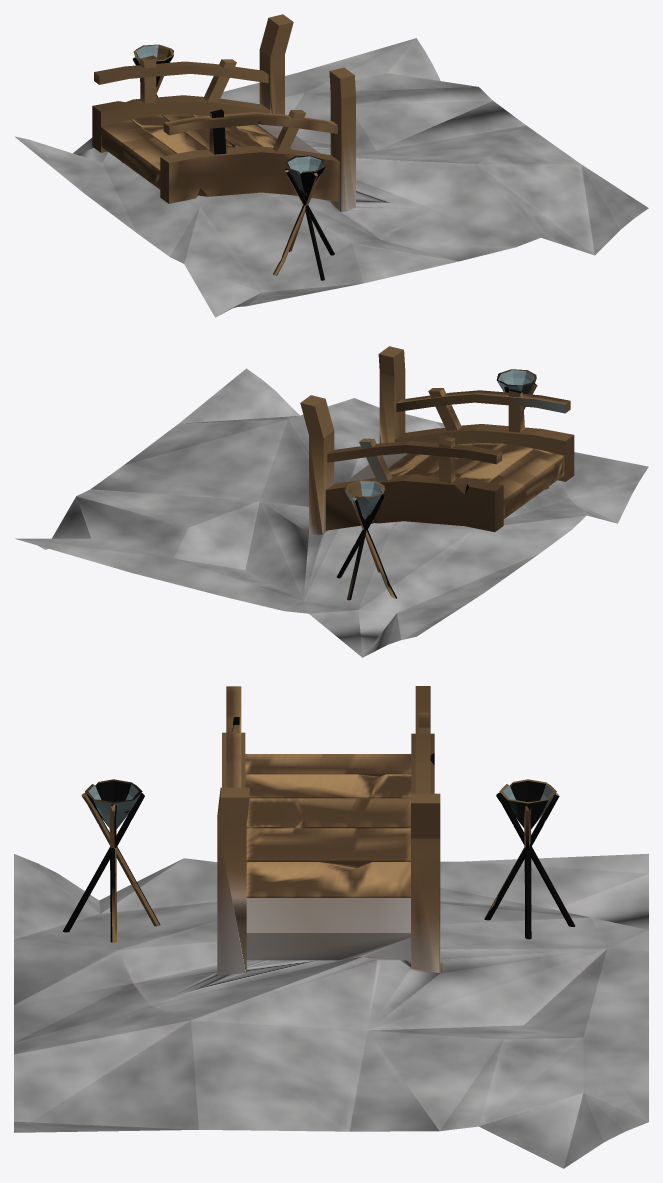
Rendered from FloorBridge1.gltf.
3 views of the same model, one above another, from view 1: azimuth 30°, elevation 25°; view 2: azimuth 150°, elevation 25°; view 3: azimuth 270°, elevation 25° (orthographic). The views are drawn at different scales.
Parts seen in each view (by area): view 1: FloorBridge1; view 2: FloorBridge1; view 3: FloorBridge1.
Boxes of the visible parts, x1,y1,x2,y2 form: FloorBridge1: (14, 14, 648, 317); FloorBridge1: (15, 346, 648, 657); FloorBridge1: (14, 686, 648, 1168).
Bounding box in the file's own units: 5.02 × 1.96 × 5.
3 materials, 3 textured.
